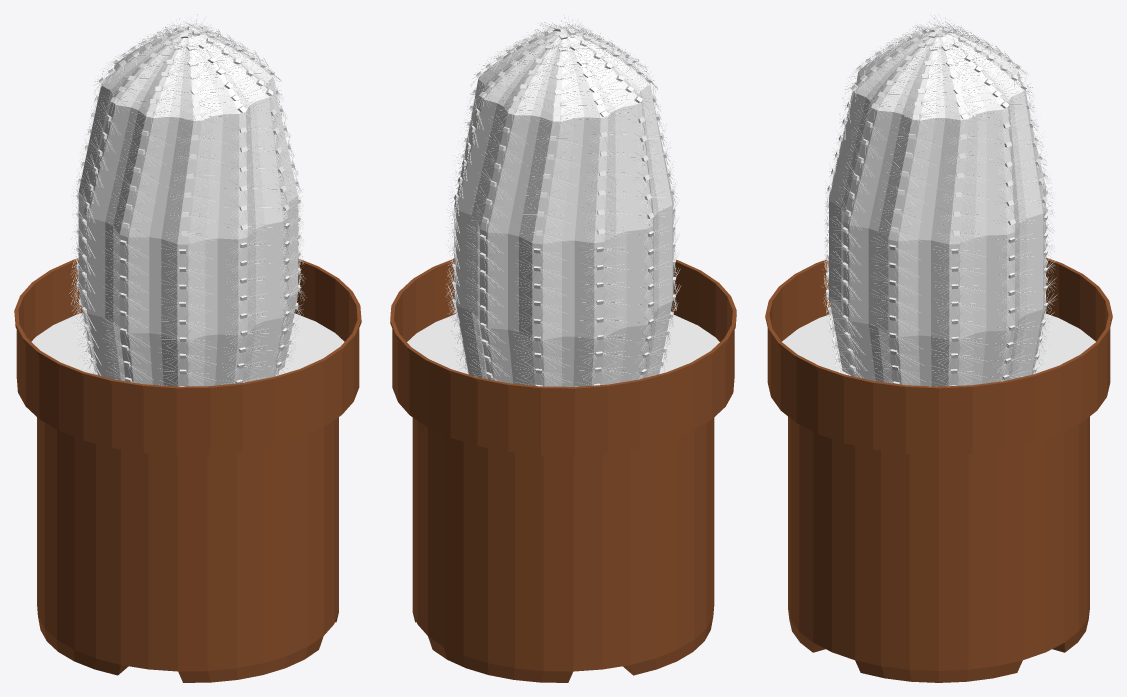
File: cactus2.gltf
3 views of the same model, side by side, from view 1: azimuth 30°, elevation 25°; view 2: azimuth 150°, elevation 25°; view 3: azimuth 270°, elevation 25° (orthographic).
Visible parts, largest first — view 1: Cactus 2; view 2: Cactus 2; view 3: Cactus 2.
Part boxes in pixels (left/top/right/bottom): Cactus 2: left=14, top=14, right=361, bottom=682; Cactus 2: left=390, top=15, right=736, bottom=682; Cactus 2: left=765, top=14, right=1112, bottom=682.
Size of the model in its own units: 0.3339 by 0.6323 by 0.3339.
